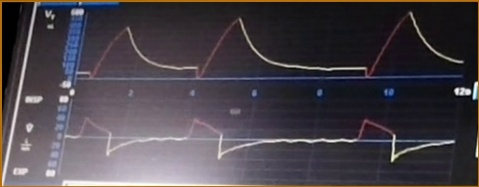Flow: (71, 108, 446, 176)
Leakage Volume: (83, 8, 458, 85)
